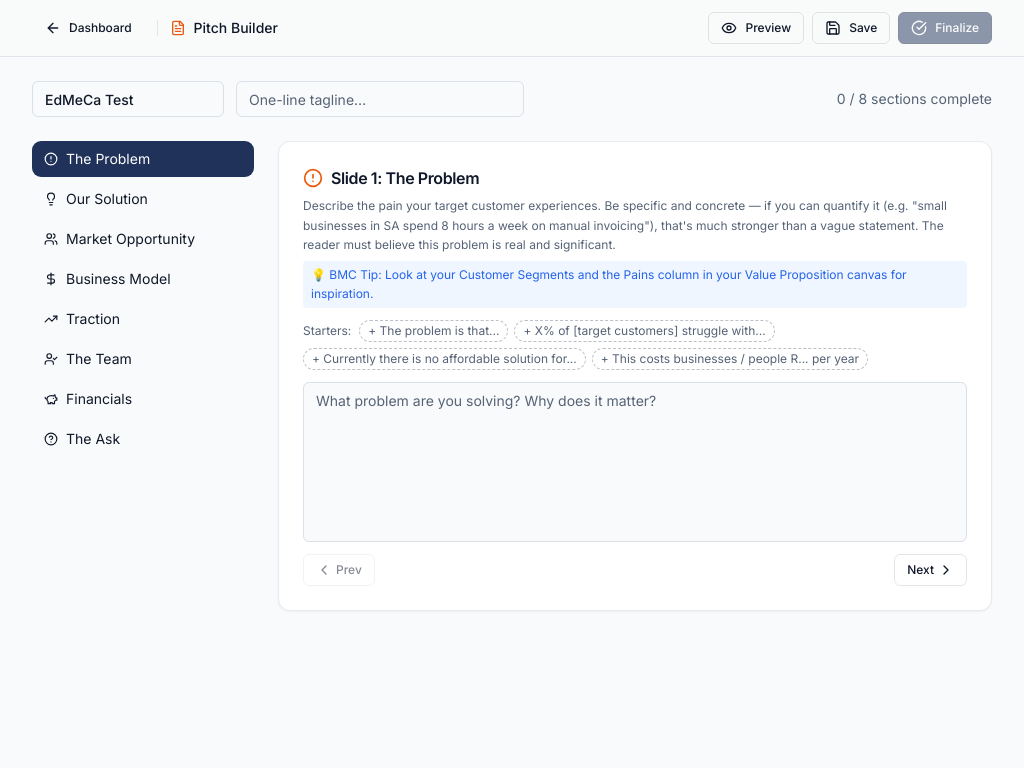
PitchBuilderTool › clicking Prev from Solution returns to Problem
Check: the text "Slide 1: The Problem" is shown, box [303,168,479,188]
Click the button "Next".
click(931, 570)  # box [894,554,967,586]
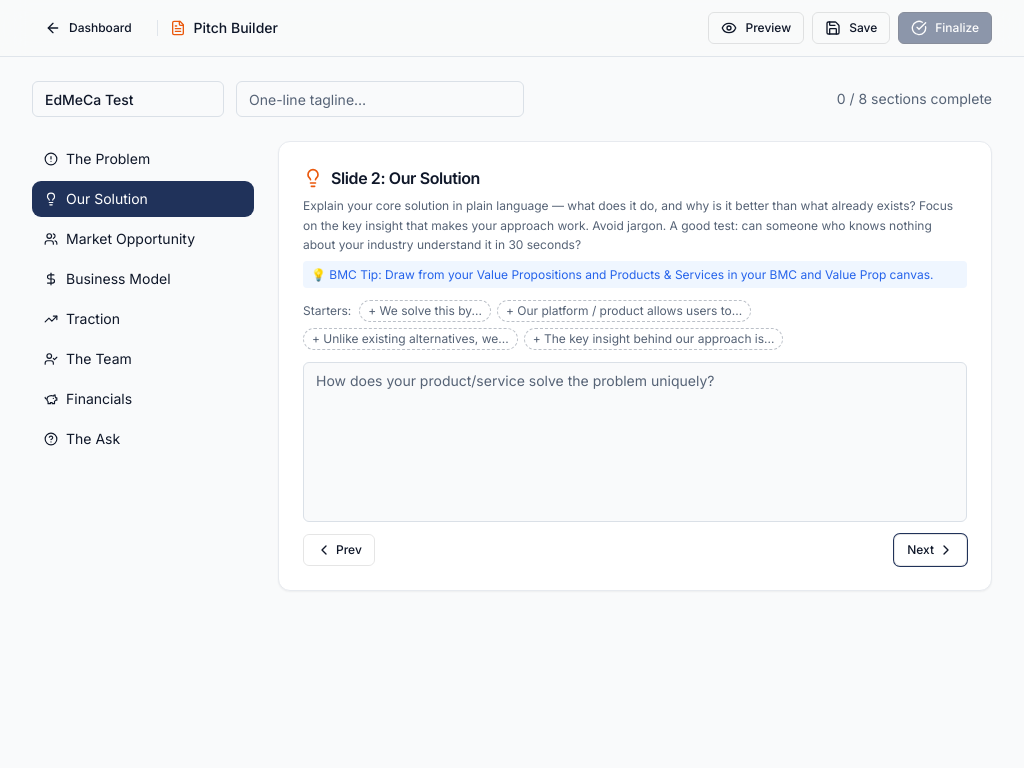
Check: the text "Slide 2: Our Solution" is shown, box [303,168,480,188]
Click the button "Prev".
click(339, 550)  # box [303,534,375,566]
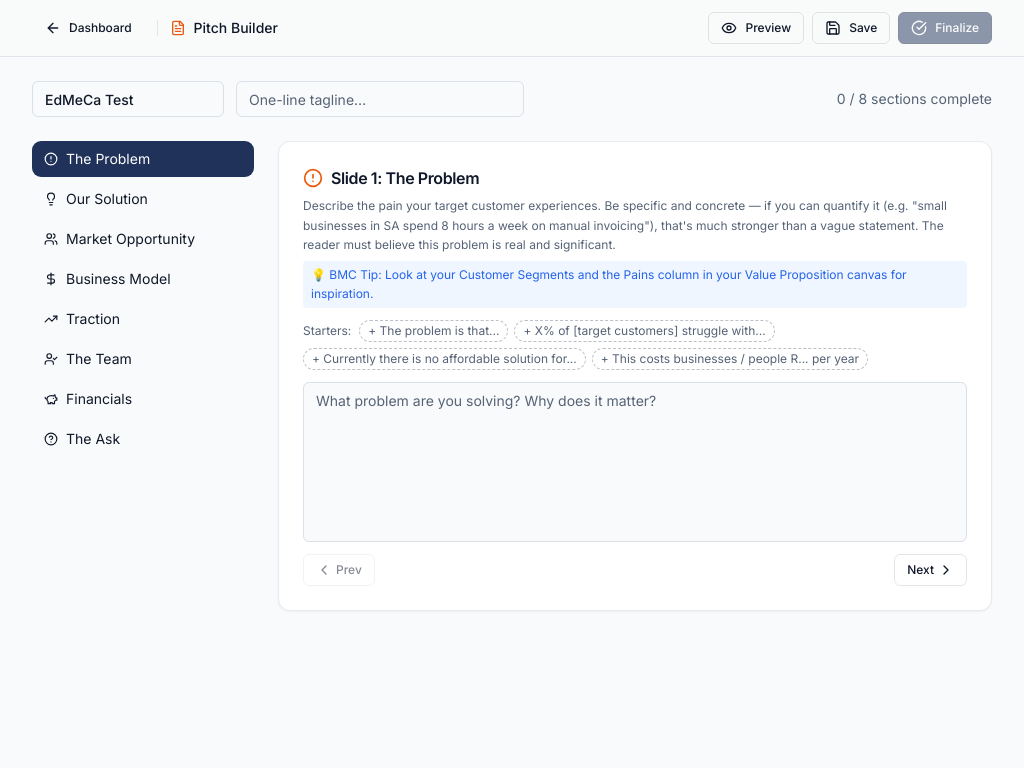
Check: the text "Slide 1: The Problem" is shown, box [303,168,479,188]
